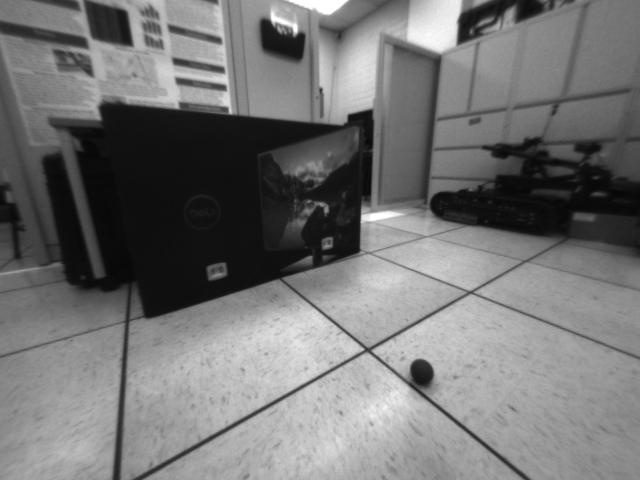dogtoy: (402, 353, 439, 391)
